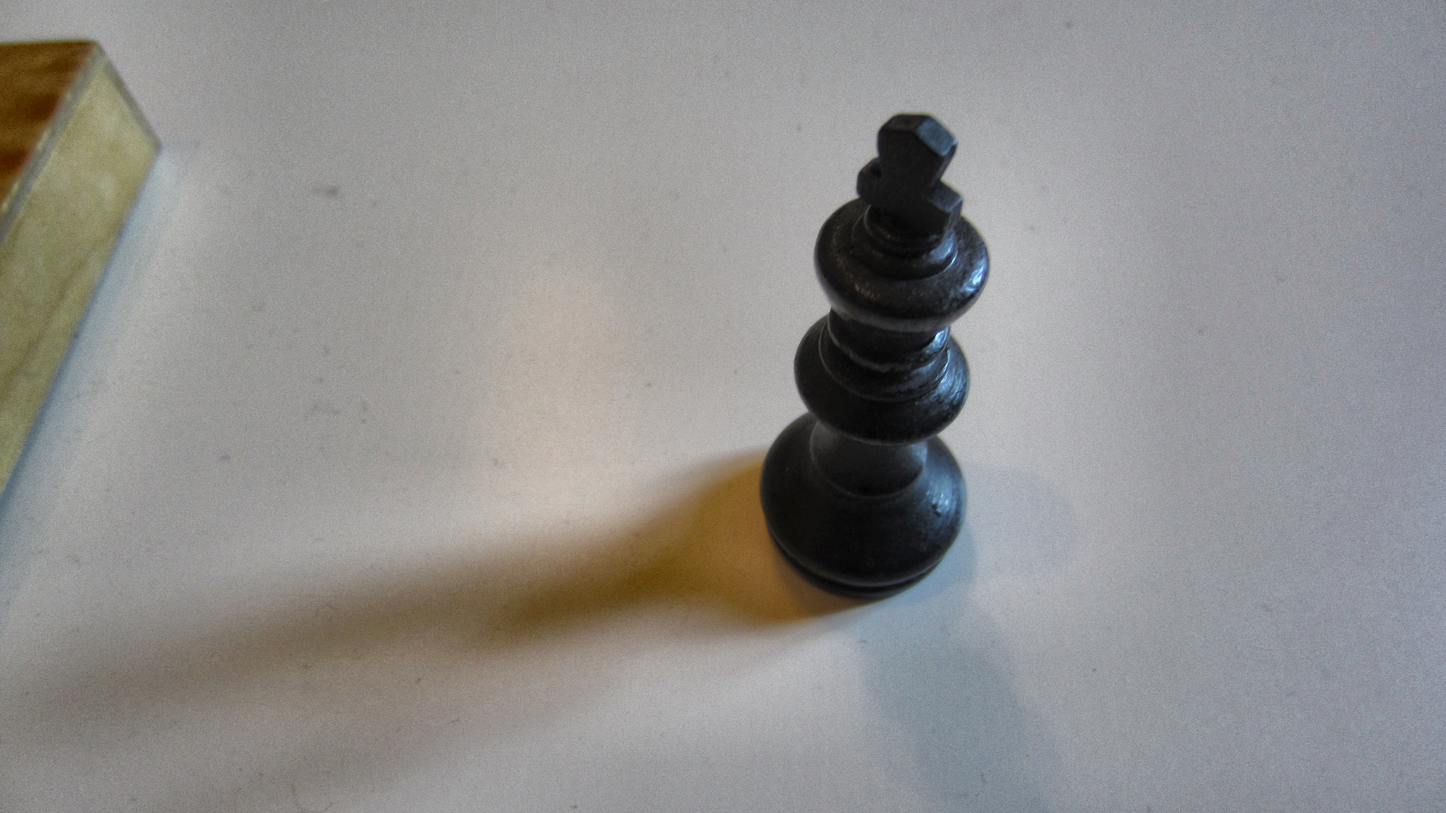black-king: (757, 112, 1000, 602)
